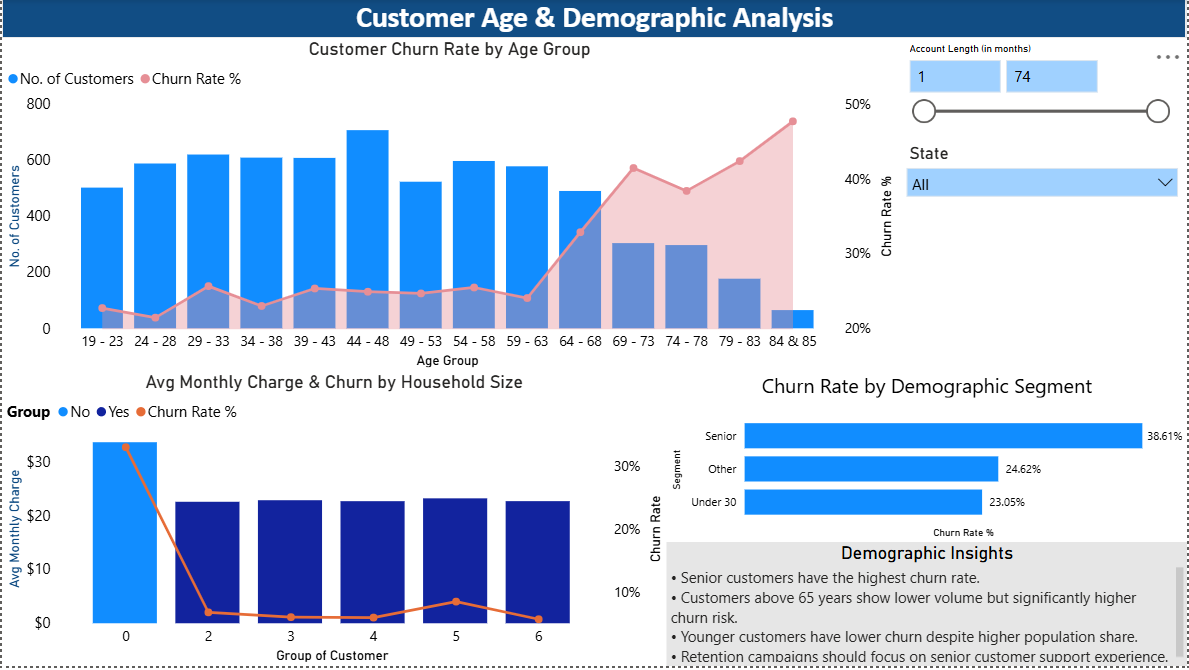

The page's visual inventory and layout, read from the dashboard file:
{"tool":"powerbi","page":{"name":"AGE & DEMOGRAPHIC ANALYSIS","canvas":[1280,720],"ordinal":1},"visuals":[{"type":"lineStackedColumnComboChart","title":"Customer Churn Rate by Age Group","fields":{"Y":["calculation.No. of Customers"],"Category":["Databel - Data.Age (groups)"],"Y2":["calculation.Churn Rate %"]},"box":[0,41.9,966.3,360.1],"z":0},{"type":"clusteredBarChart","title":"Churn Rate by Demographic Segment","fields":{"Category":["Databel - Data.Demographics"],"Y":["calculation.Churn Rate %"]},"box":[717.3,401.6,561.9,184.6],"z":1000},{"type":"lineStackedColumnComboChart","title":"Avg Monthly Charge & Churn by Household Size","fields":{"Category":["Databel - Data.Number of Customers in Group"],"Y":["Avg(Databel - Data.Monthly Charge)"],"Y2":["calculation.Churn Rate %"],"Series":["Databel - Data.Group"]},"box":[0,401.6,717.3,319],"z":2000},{"type":"slicer","fields":{"Values":["Databel - Data.Account Length (in months)"]},"box":[966.7,42.1,312.5,108.5],"z":3000},{"type":"textbox","title":"Customer Age & Demographic Analysis","box":[0,0,1279.5,41.9],"z":4000},{"type":"textbox","title":"Demographic Insights","box":[716.8,586.1,562.7,134],"z":5000},{"type":"slicer","fields":{"Values":["Databel - Data.State"]},"box":[966.7,150.6,312.5,251],"z":6000}]}

Visuals, with their boxes in screenshot pixels (x1, y1, x2, y2), scaled from the page's 1280x720 canvas onto the 1189x670 screenshot:
"Customer Churn Rate by Age Group" lineStackedColumnComboChart: (0, 39, 898, 374)
"Churn Rate by Demographic Segment" clusteredBarChart: (666, 374, 1188, 545)
"Avg Monthly Charge & Churn by Household Size" lineStackedColumnComboChart: (0, 374, 666, 669)
slicer - Databel - Data.Account Length (in months): (898, 39, 1188, 140)
"Customer Age & Demographic Analysis" textbox: (0, 0, 1188, 39)
"Demographic Insights" textbox: (666, 545, 1188, 669)
slicer - Databel - Data.State: (898, 140, 1188, 374)
